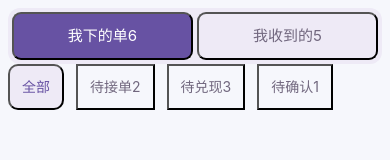
Test: shows the same counts on the order list and updates them when switching roles
Expected: the button "待接单2" is shown, [76,64,154,110]
Expected: the button "待兑现3" is shown, [166,64,245,110]
Click the button "我收到的5".
click(288, 36)  # box [197,12,378,60]
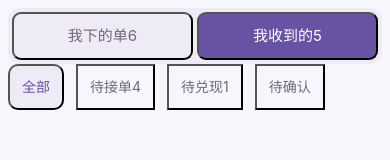
Result: the button "待接单4" is shown at [76,64,155,110]
Result: the button "待兑现1" is shown at [167,64,243,110]
